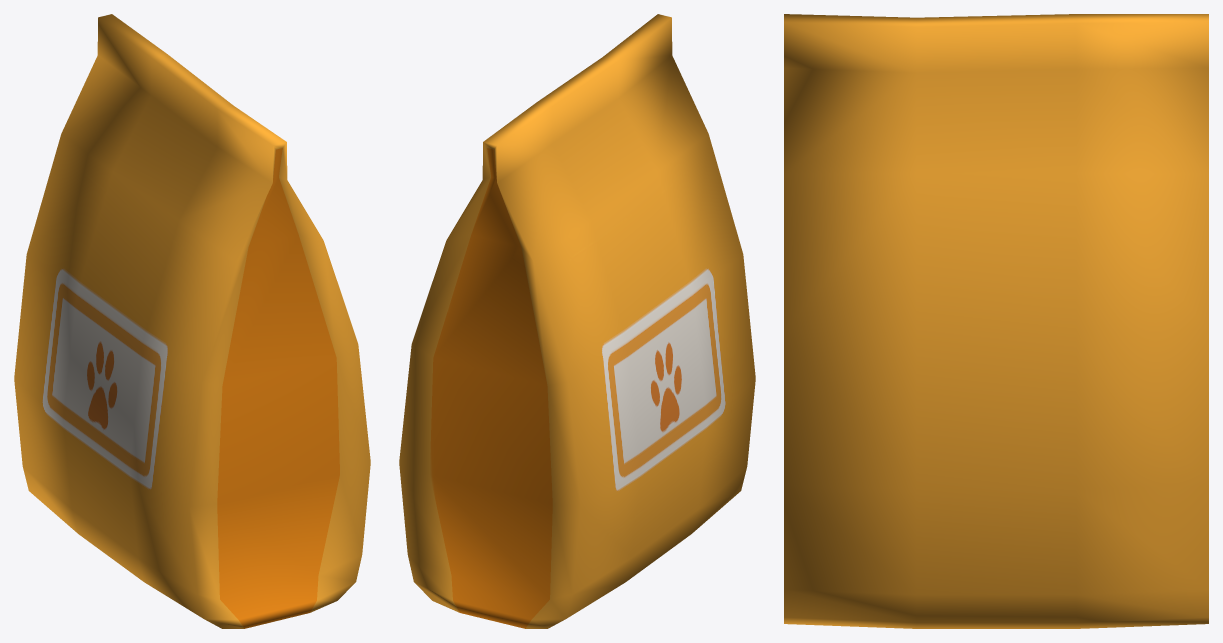
File: FoodBag.fbx
3 views of the same model, side by side, from view 1: azimuth 30°, elevation 25°; view 2: azimuth 150°, elevation 25°; view 3: azimuth 270°, elevation 25° (orthographic). The views are drawn at different scales.
Visible parts, largest first — view 1: FoodBag; view 2: FoodBag; view 3: FoodBag.
Boxes of the visible parts, <box> form: FoodBag: <box>14,14,370,628</box>; FoodBag: <box>399,14,755,628</box>; FoodBag: <box>784,14,1208,628</box>.
Bounding box in the file's own units: 63.5 × 151 × 100.
